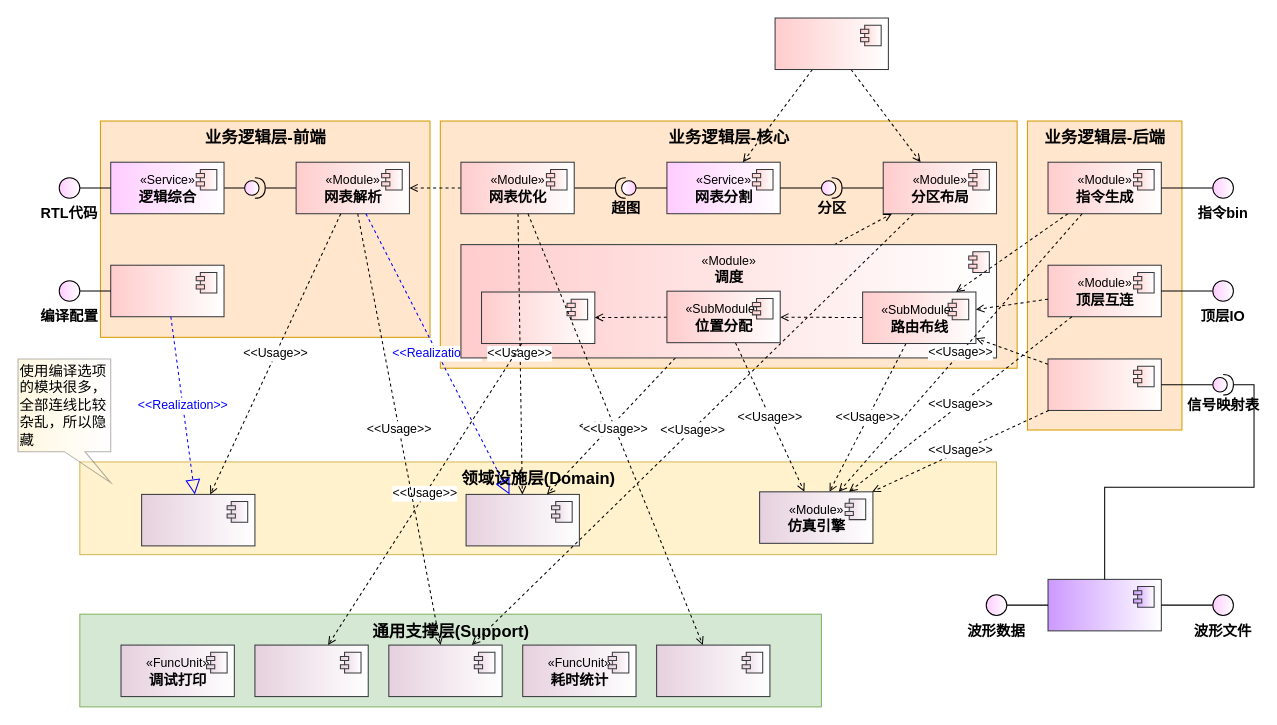
The diagram is 1277 pixels wide and 725 high, and some of its shapes have lost their labels. Here are the shapes that lost their labels. From the top down, the centre of each, then its label:
At (831,43): "«Module» 流程控制".
At (254,187): "网表".
At (167,290): "«Module» 配置解析".
At (537,317): "«SubModule» 调度图".
At (1104,384): "«Module» 信号导出".
At (198,519): "«Module» 编译选项".
At (522,519): "«Module» 网表超图".
At (1104,604): "«SubSystem» 波形恢复".
At (311,670): "«Module» Digraph".
At (445,670): "«Module» 线程池".
At (713,670): "«FuncUnit» 真值表".
